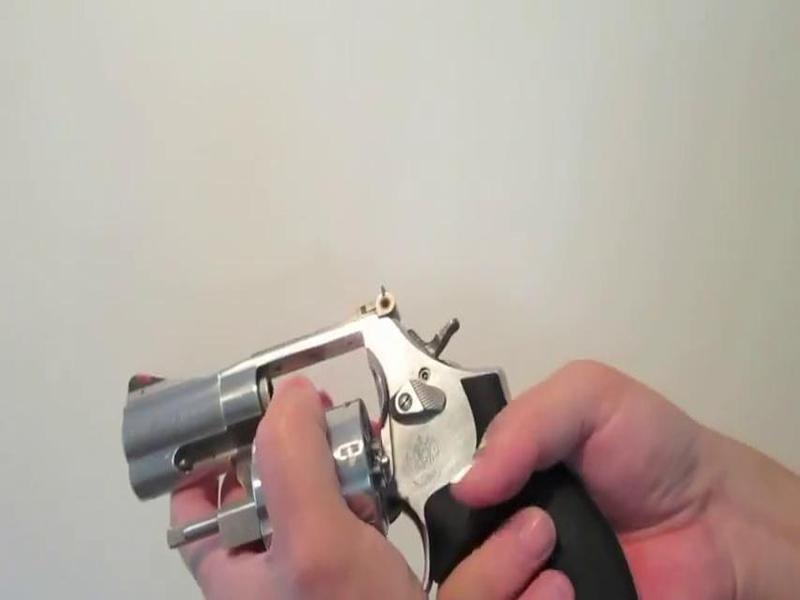Revolver: (99, 275, 646, 600)
